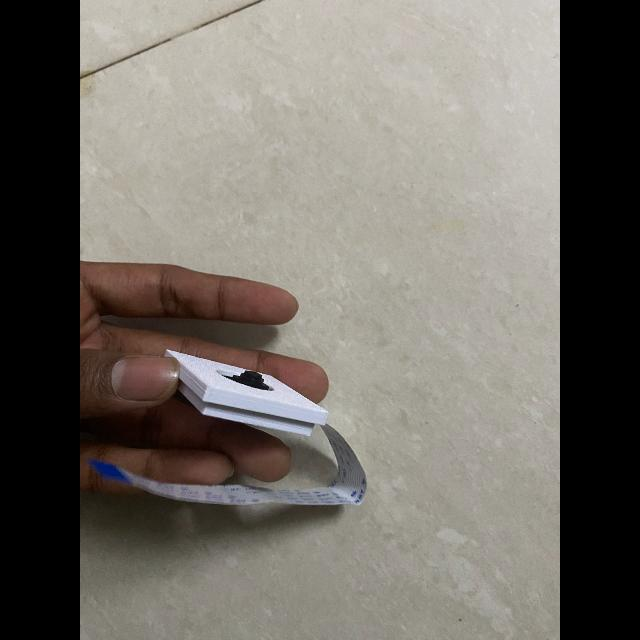RASPBERY PI CAM ENCLOSURE: (164, 349, 328, 436)
